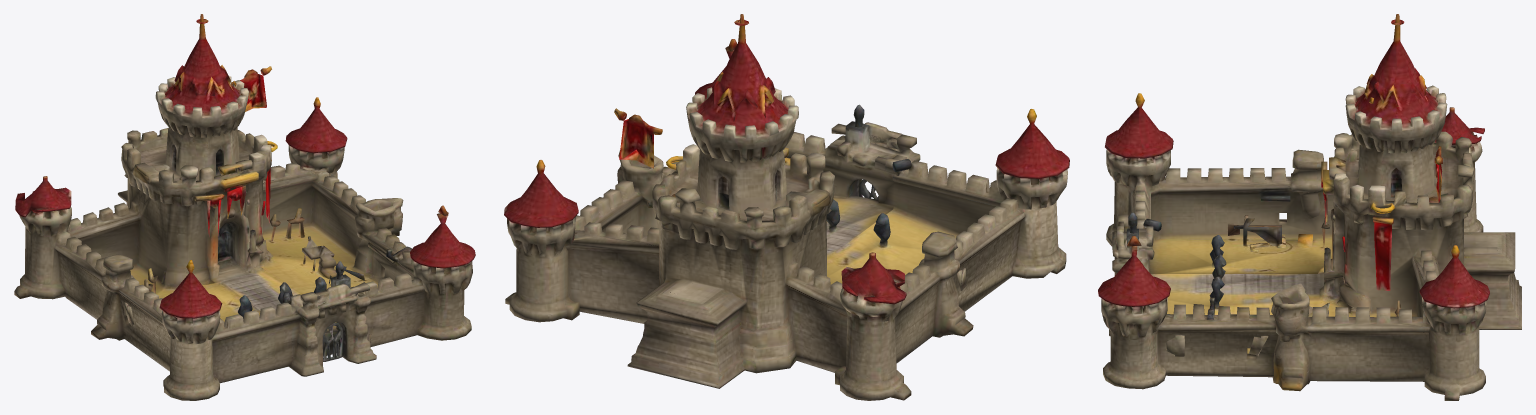
The model's file is cuartel_tripo_3.glb.
The picture shows the model from 3 angles, left to right: view 1: azimuth 30°, elevation 25°; view 2: azimuth 150°, elevation 25°; view 3: azimuth 270°, elevation 25°; orthographic projection. The views are drawn at different scales.
Parts seen in each view (by area): view 1: tripo_node_25bbf393-71aa-4287-97a2-2995e9db8a8c; view 2: tripo_node_25bbf393-71aa-4287-97a2-2995e9db8a8c; view 3: tripo_node_25bbf393-71aa-4287-97a2-2995e9db8a8c.
Part boxes in pixels (bbox=[...]): tripo_node_25bbf393-71aa-4287-97a2-2995e9db8a8c: bbox=[14, 14, 475, 400]; tripo_node_25bbf393-71aa-4287-97a2-2995e9db8a8c: bbox=[504, 14, 1069, 400]; tripo_node_25bbf393-71aa-4287-97a2-2995e9db8a8c: bbox=[1098, 14, 1521, 400].
Size of the model in its own units: 0.9795 by 0.7456 by 0.968.
1 material, 1 textured.
